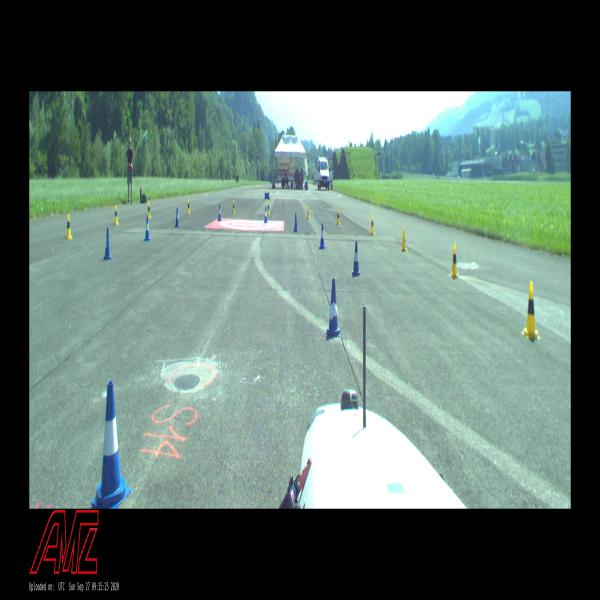blue_cone: (91, 381, 131, 509), (326, 278, 341, 338), (103, 228, 112, 260), (352, 241, 360, 276), (319, 223, 326, 249), (144, 216, 151, 241), (175, 207, 180, 227), (293, 213, 298, 232), (264, 206, 268, 223), (218, 204, 222, 221)
yellow_cone: (522, 282, 540, 339), (450, 244, 459, 278), (65, 212, 73, 238), (401, 226, 407, 252), (370, 214, 375, 234), (114, 206, 119, 224), (148, 201, 152, 218), (336, 209, 340, 225), (187, 199, 191, 214), (306, 205, 310, 220), (232, 199, 235, 214), (267, 202, 270, 215)
